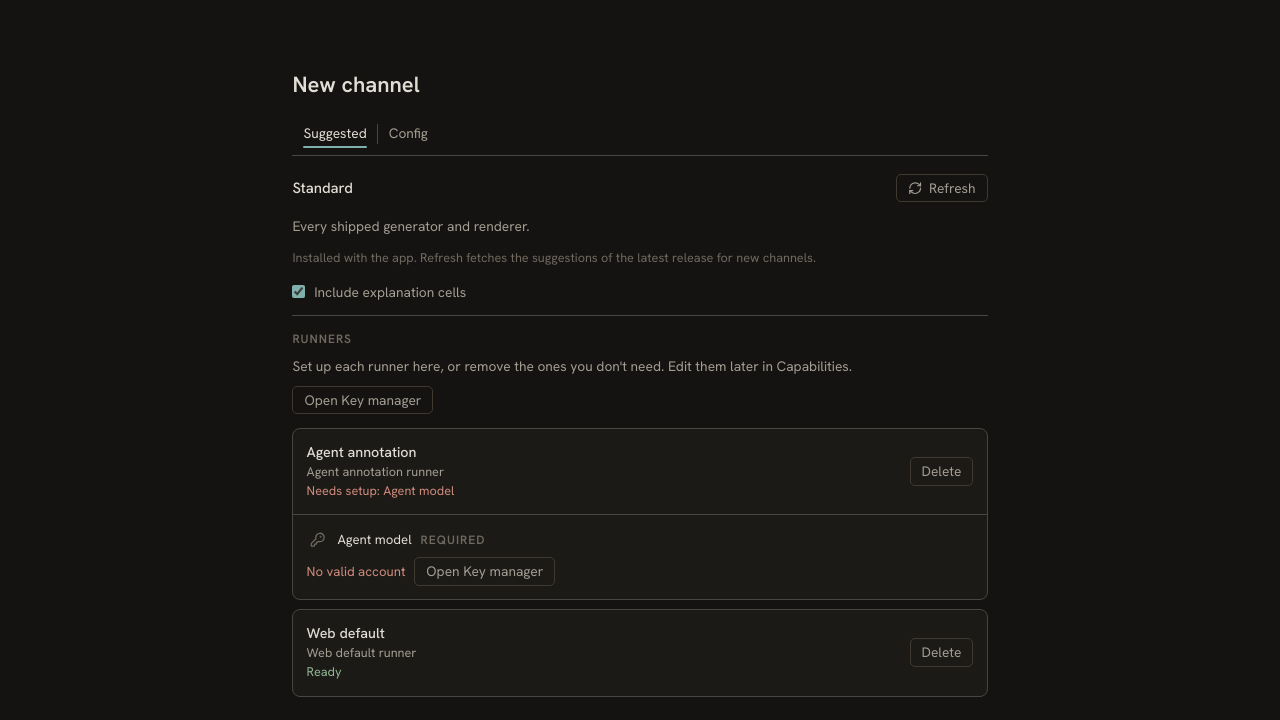
Test: New channel: Suggested › a hold while a folder is the source stops using it and goes back to normal mode
The width and height of the screenshot is (1280, 720).
Expected: the text "Agent annotation" is shown, [307, 443, 416, 461]
Press the mouse on the button "Refresh" at (942, 188), box [896, 174, 988, 202]
Wait 5000 ms
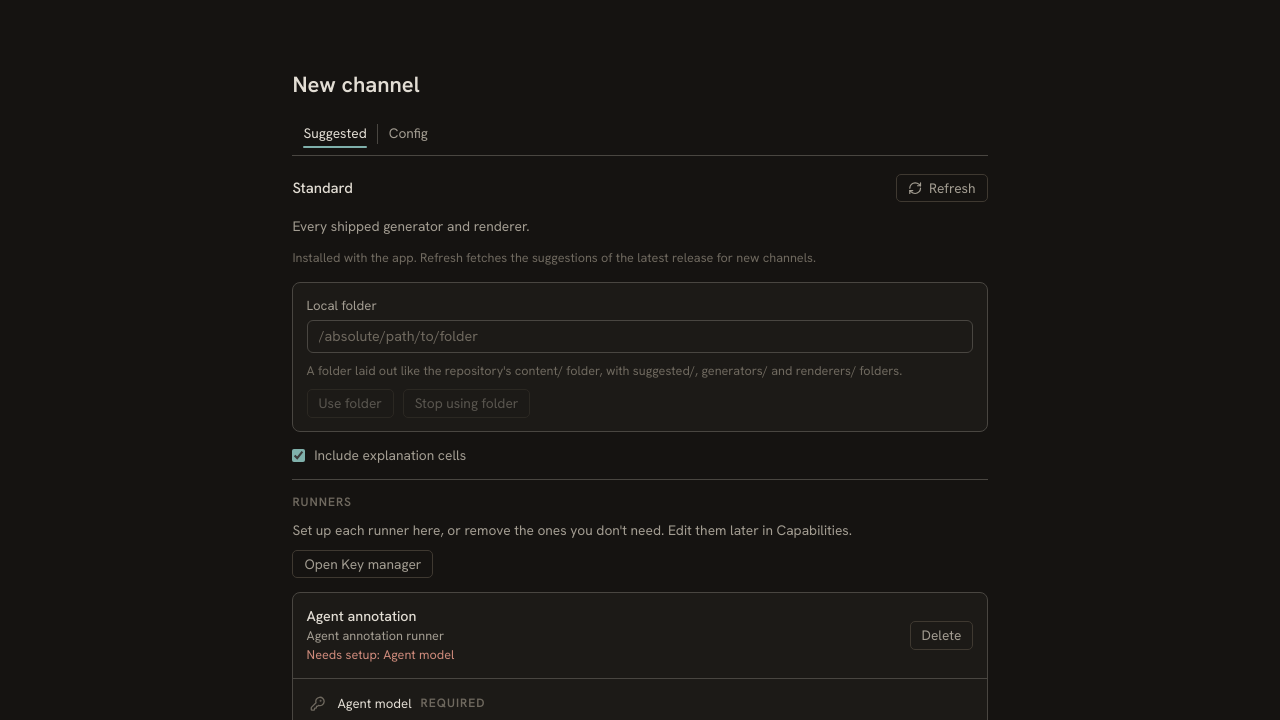
Type "/home/me/sdk" into the field labelled "Local folder" at (640, 336), box [307, 320, 973, 353]
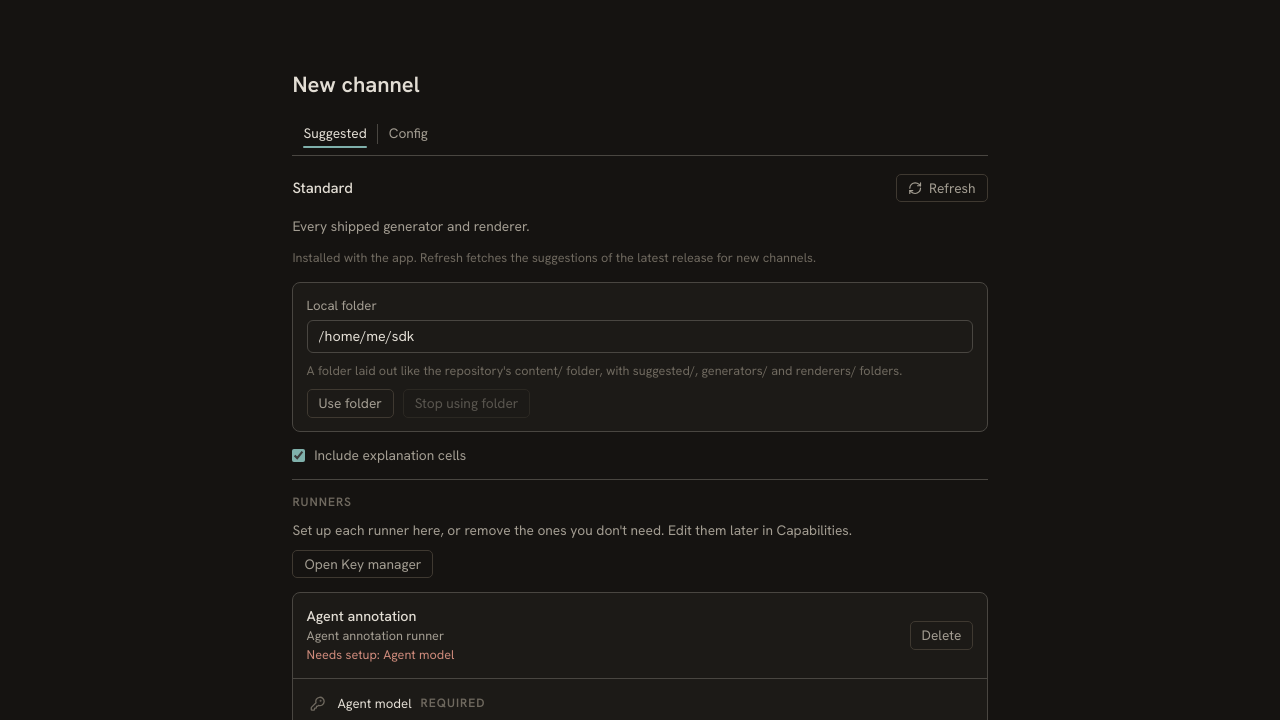
Click the button "Use folder" at (350, 404), box [307, 390, 394, 418]
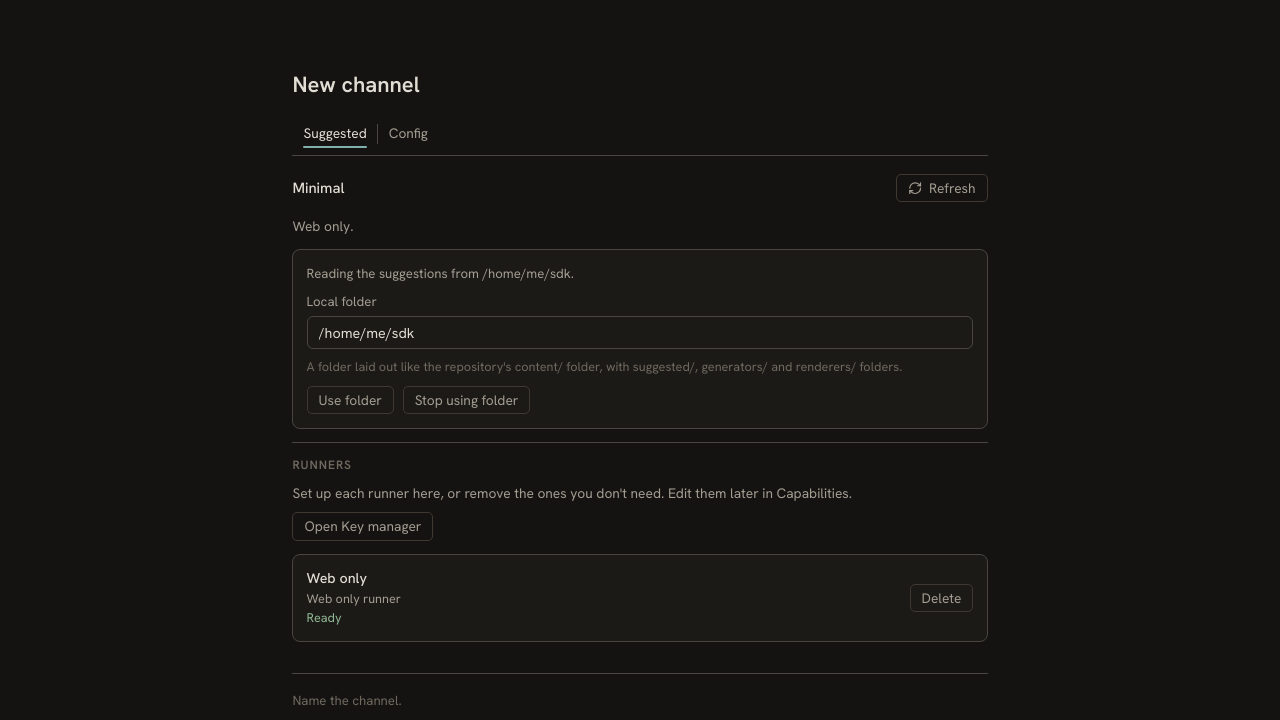
Expected: the text "Web only" is shown, [307, 569, 367, 587]
Press the mouse on the button "Refresh" at (942, 188), box [896, 174, 988, 202]
Wait 5000 ms
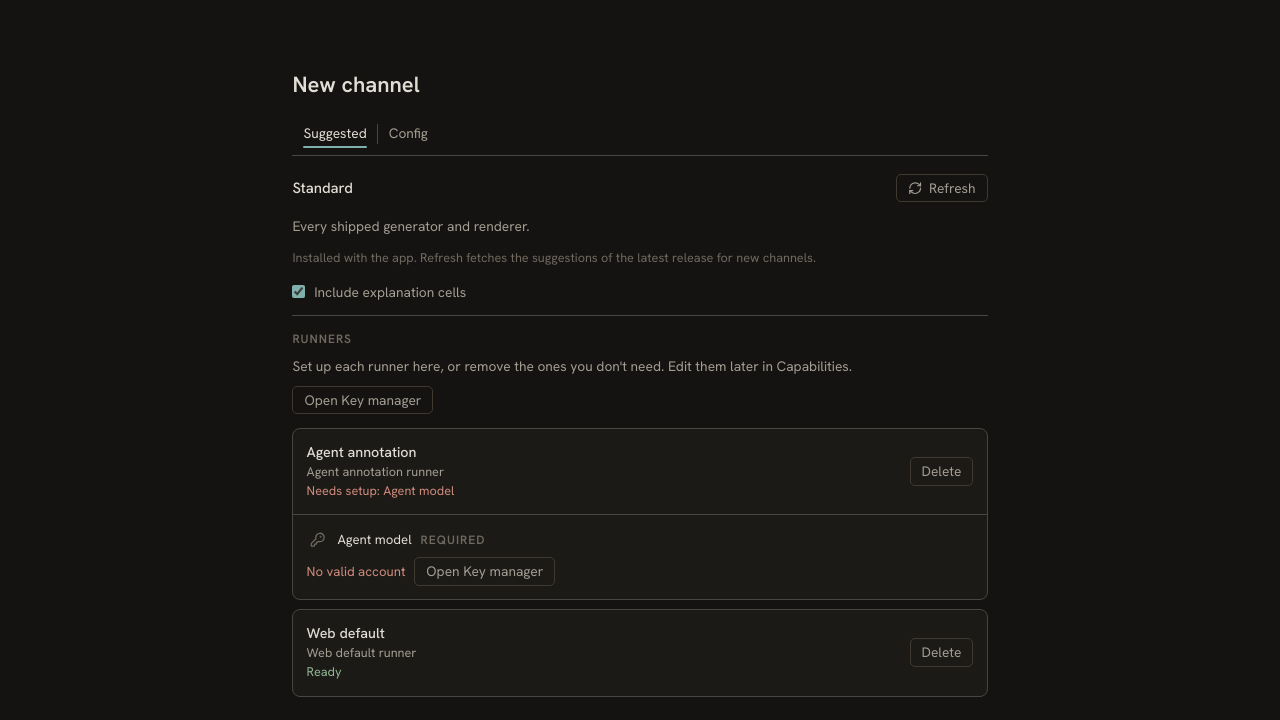
Expected: the text "Agent annotation" is shown, [307, 443, 416, 461]
Expected: the text labelled "Local folder" is gone
